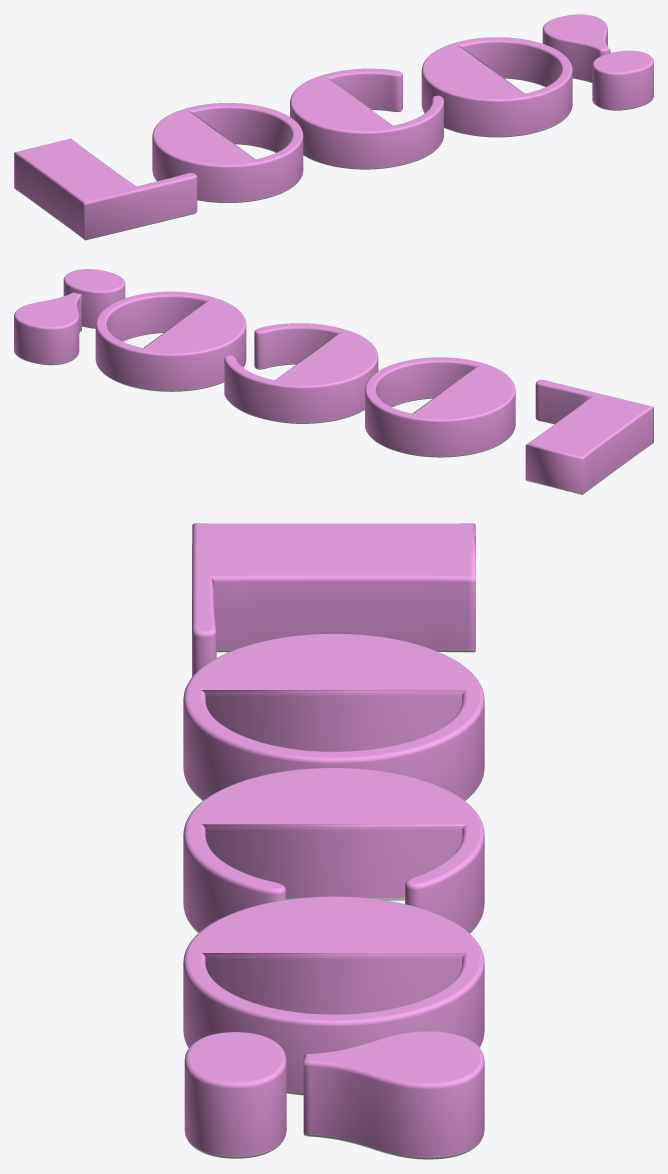
File: asset.glb
3 views of the same model, one above another, from view 1: azimuth 30°, elevation 25°; view 2: azimuth 150°, elevation 25°; view 3: azimuth 270°, elevation 25° (orthographic). The views are drawn at different scales.
Parts seen in each view (by area): view 1: テキスト; view 2: テキスト; view 3: テキスト.
Boxes of the visible parts, <box> form: テキスト: <box>14,14,653,240</box>; テキスト: <box>14,269,653,494</box>; テキスト: <box>183,523,484,1159</box>.
Bounding box in the file's own units: 2.86 × 0.18 × 0.6457.
